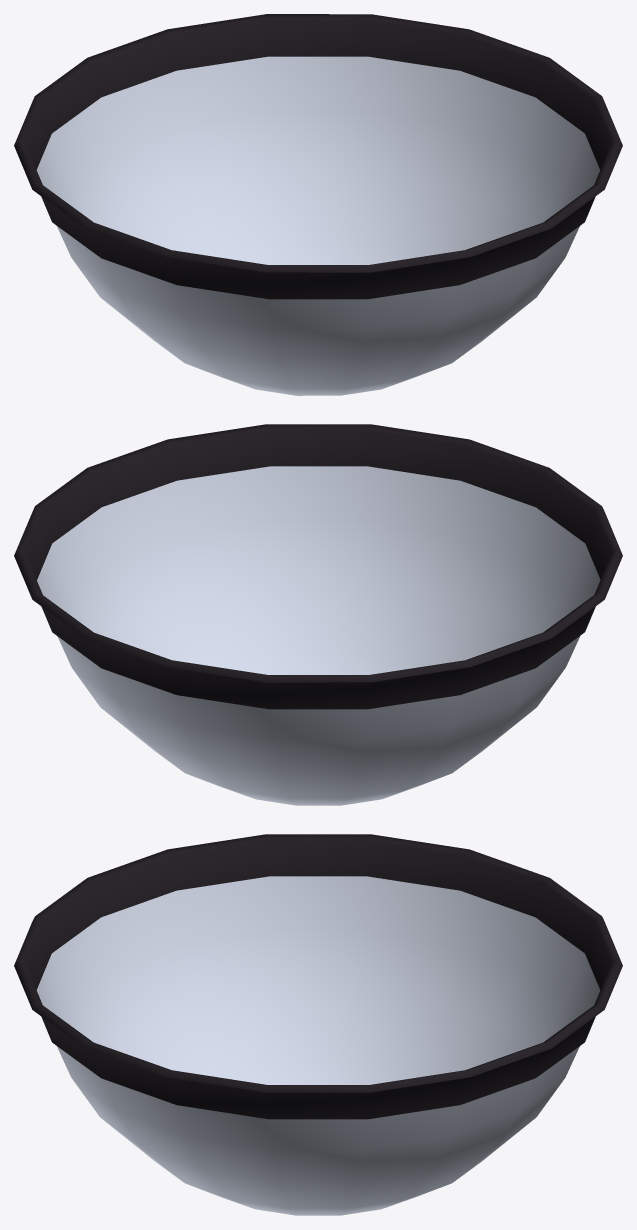
Rendered from Bowl.glb.
The picture shows the model from 3 angles, top to bottom: view 1: azimuth 30°, elevation 25°; view 2: azimuth 150°, elevation 25°; view 3: azimuth 270°, elevation 25°; orthographic projection.
Parts seen in each view (by area): view 1: huitugou_2062_439, huitugou_2062_438; view 2: huitugou_2062_439, huitugou_2062_438; view 3: huitugou_2062_439, huitugou_2062_438.
Boxes of the visible parts, <box> form: huitugou_2062_439: <box>36,56,599,395</box>; huitugou_2062_438: <box>14,14,622,299</box>; huitugou_2062_439: <box>37,466,600,805</box>; huitugou_2062_438: <box>14,424,622,709</box>; huitugou_2062_439: <box>36,876,600,1215</box>; huitugou_2062_438: <box>14,834,622,1119</box>.
Size of the model in its own units: 0.1307 by 0.0489 by 0.1327.
